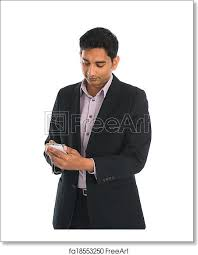Indian_Male: (81, 36, 114, 87)
